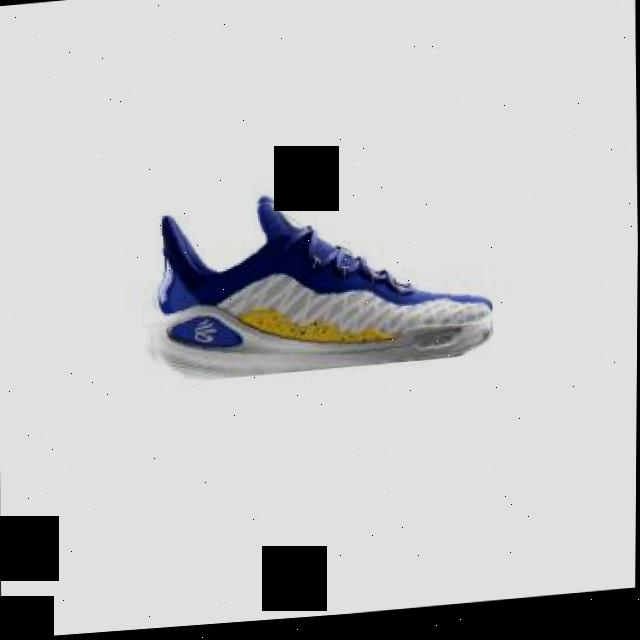shoe: (144, 183, 494, 387)
